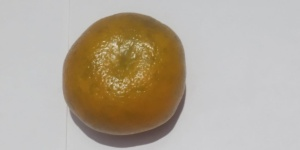BAD: (61, 10, 190, 142)
